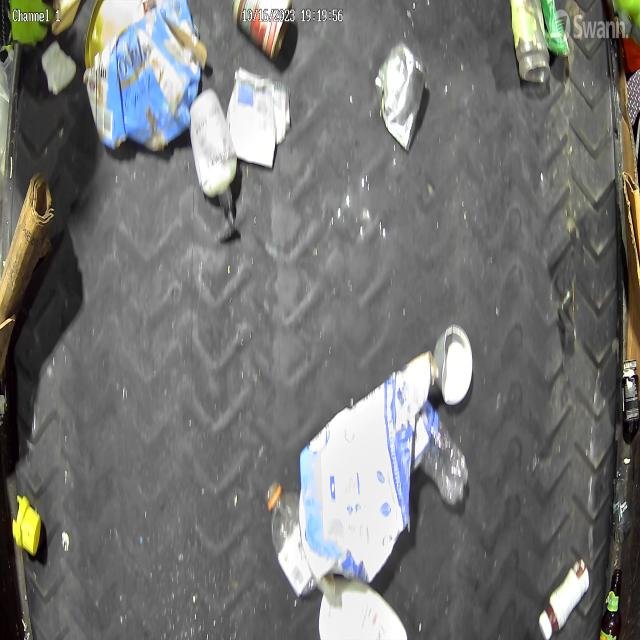can: (372, 39, 428, 153), (224, 66, 276, 170), (434, 326, 475, 410), (274, 80, 294, 147)
plastic_bottle: (265, 477, 323, 599), (417, 400, 471, 511)
